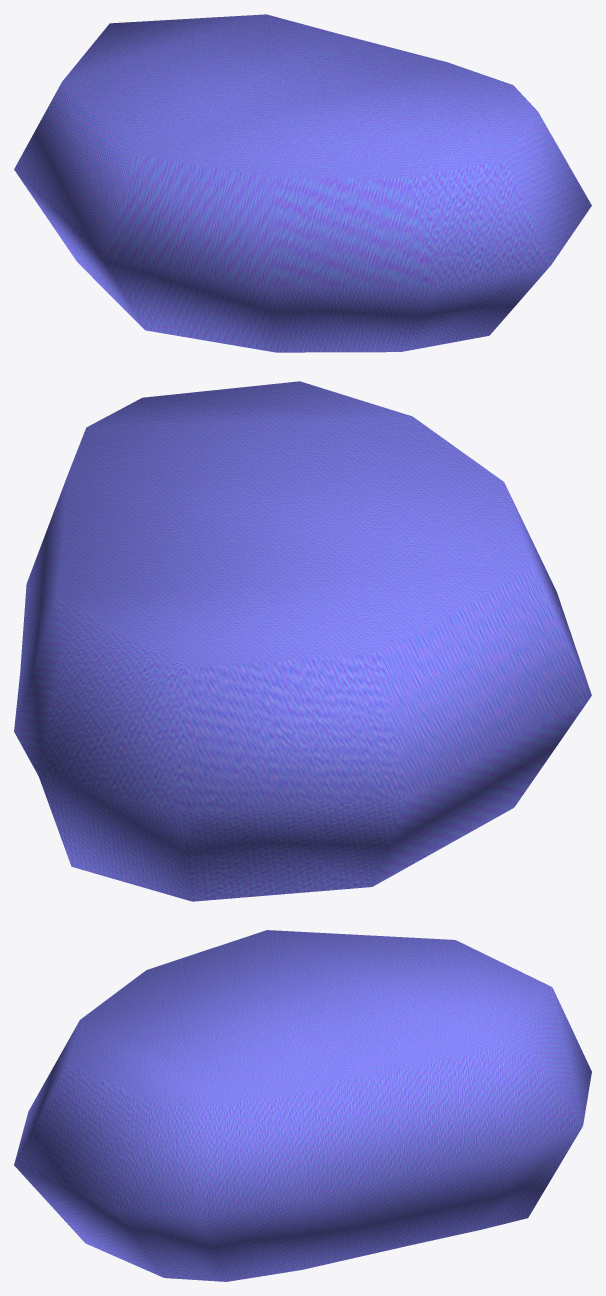
The model's file is pebble-eye-1.fbx.
3 views of the same model, one above another, from view 1: azimuth 30°, elevation 25°; view 2: azimuth 150°, elevation 25°; view 3: azimuth 270°, elevation 25° (orthographic). The views are drawn at different scales.
Visible parts, largest first — view 1: pebble_eye_1; view 2: pebble_eye_1; view 3: pebble_eye_1.
Part boxes in pixels (bbox=[...]): pebble_eye_1: bbox=[14, 14, 591, 352]; pebble_eye_1: bbox=[14, 381, 591, 901]; pebble_eye_1: bbox=[14, 930, 591, 1281].
Bounding box in the file's own units: 3.71 × 1.48 × 4.25.
Materials: 1 (1 with a texture image).
